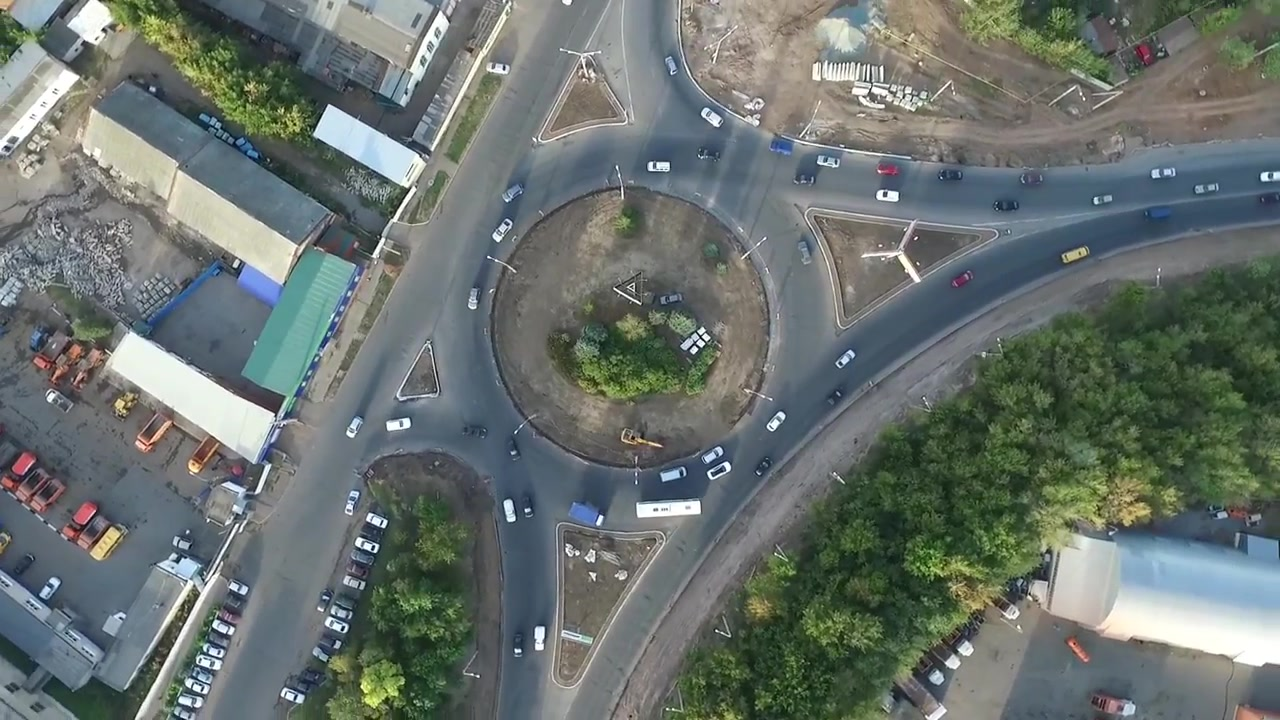car: (88, 521, 129, 564), (30, 327, 70, 371), (635, 495, 702, 521), (133, 412, 173, 455), (59, 500, 99, 542), (1, 450, 38, 493), (186, 435, 220, 477), (14, 466, 51, 503), (29, 478, 66, 513), (77, 515, 111, 551), (566, 501, 606, 528), (44, 387, 74, 415), (1058, 243, 1091, 266), (490, 217, 514, 243), (38, 575, 62, 601), (764, 408, 787, 434), (705, 459, 732, 481), (658, 463, 687, 483), (1133, 42, 1156, 67), (499, 182, 525, 204), (699, 106, 725, 128), (343, 414, 365, 440), (502, 435, 522, 463), (833, 347, 857, 370), (12, 552, 36, 575), (352, 535, 381, 554), (700, 444, 725, 466), (459, 424, 489, 442), (384, 415, 414, 433), (752, 455, 774, 479), (1143, 205, 1172, 223), (315, 588, 335, 614), (184, 676, 210, 696), (323, 615, 350, 634), (343, 489, 361, 517), (795, 239, 813, 266), (815, 152, 842, 170), (341, 574, 368, 592), (951, 269, 975, 289), (195, 654, 223, 671), (344, 561, 370, 579), (695, 147, 722, 164), (279, 687, 306, 704), (769, 139, 794, 157), (364, 512, 389, 530), (334, 593, 359, 611), (645, 159, 673, 175), (176, 692, 204, 708), (936, 167, 964, 183), (792, 172, 818, 189), (350, 549, 376, 566), (992, 198, 1021, 213), (1148, 166, 1177, 181), (501, 497, 517, 524), (210, 619, 235, 636), (466, 286, 482, 312), (875, 188, 901, 204), (190, 666, 213, 684), (319, 633, 343, 650), (1192, 182, 1221, 196), (485, 61, 512, 76), (532, 625, 547, 652), (328, 604, 353, 620), (663, 53, 679, 77), (170, 535, 194, 551), (826, 387, 845, 407), (875, 162, 902, 176), (511, 633, 525, 660), (659, 291, 684, 306), (228, 579, 250, 596), (302, 668, 324, 684), (172, 706, 197, 720), (311, 646, 331, 663), (1, 529, 14, 555), (520, 495, 534, 519), (1020, 172, 1044, 186), (202, 643, 225, 657), (206, 631, 229, 645), (1091, 193, 1114, 207), (218, 609, 238, 624)
